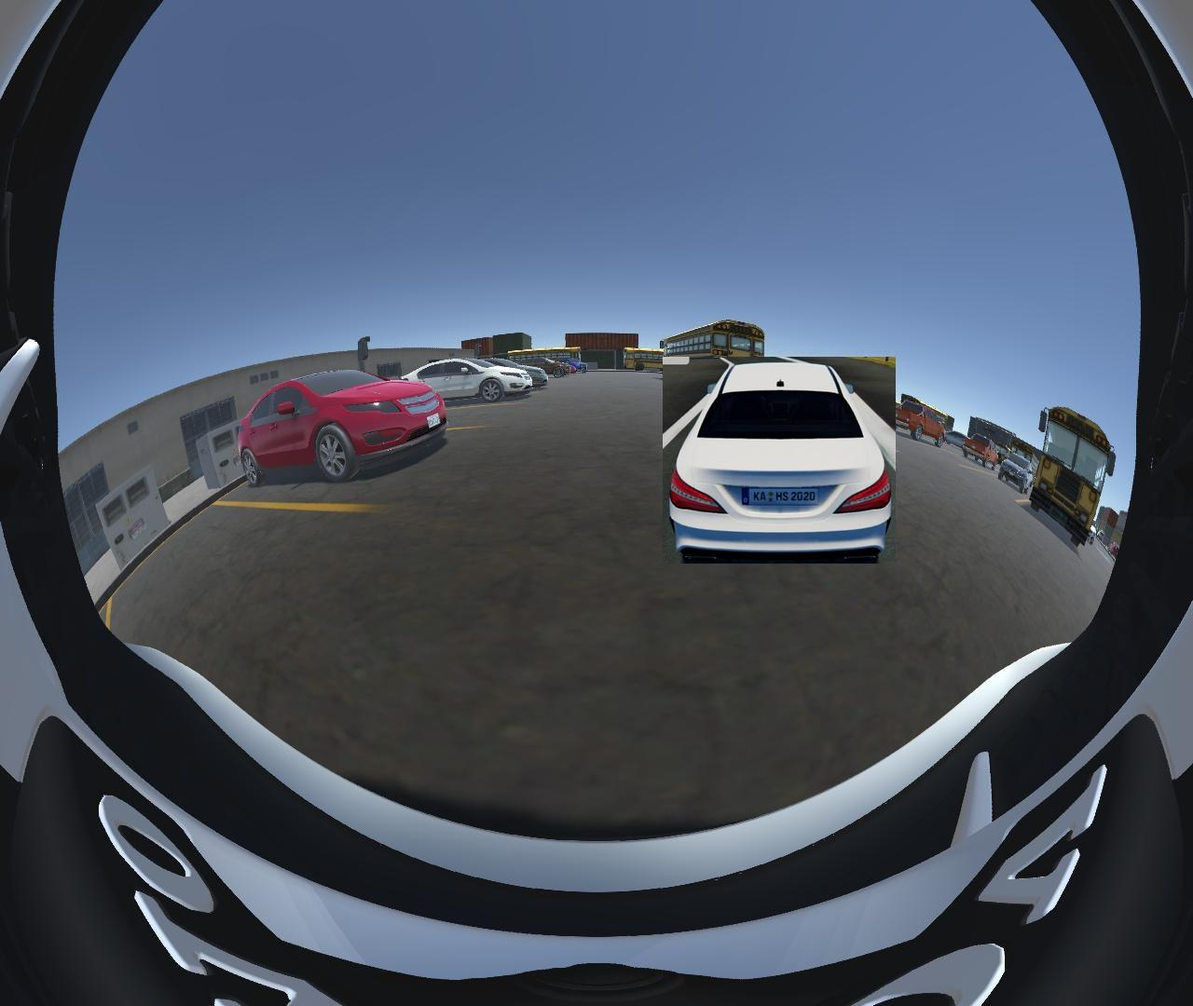Car: (658, 339, 895, 557)
